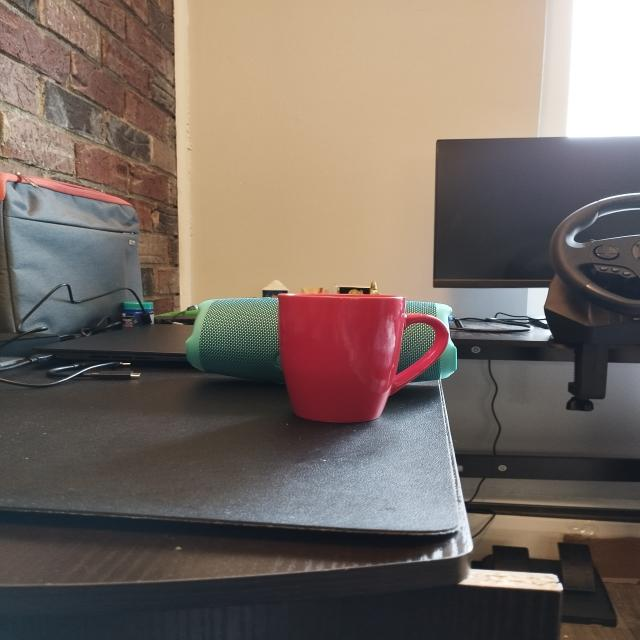Cup: (267, 288, 452, 440)
